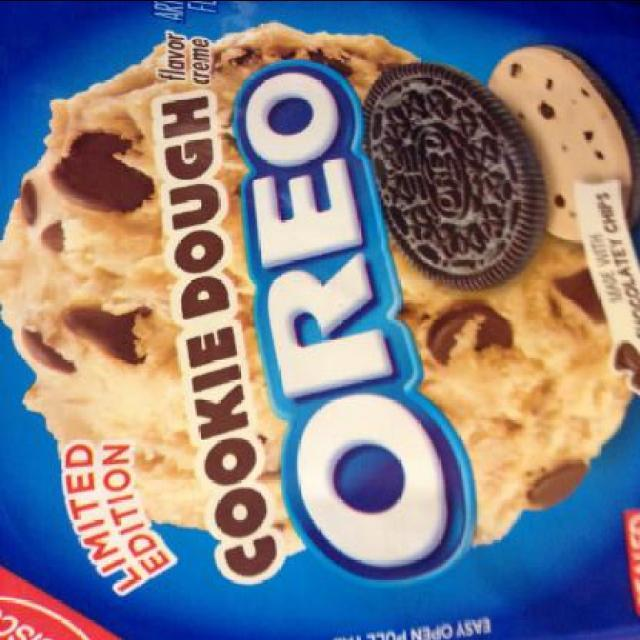Cookie: (366, 68, 548, 284), (484, 40, 640, 246)
